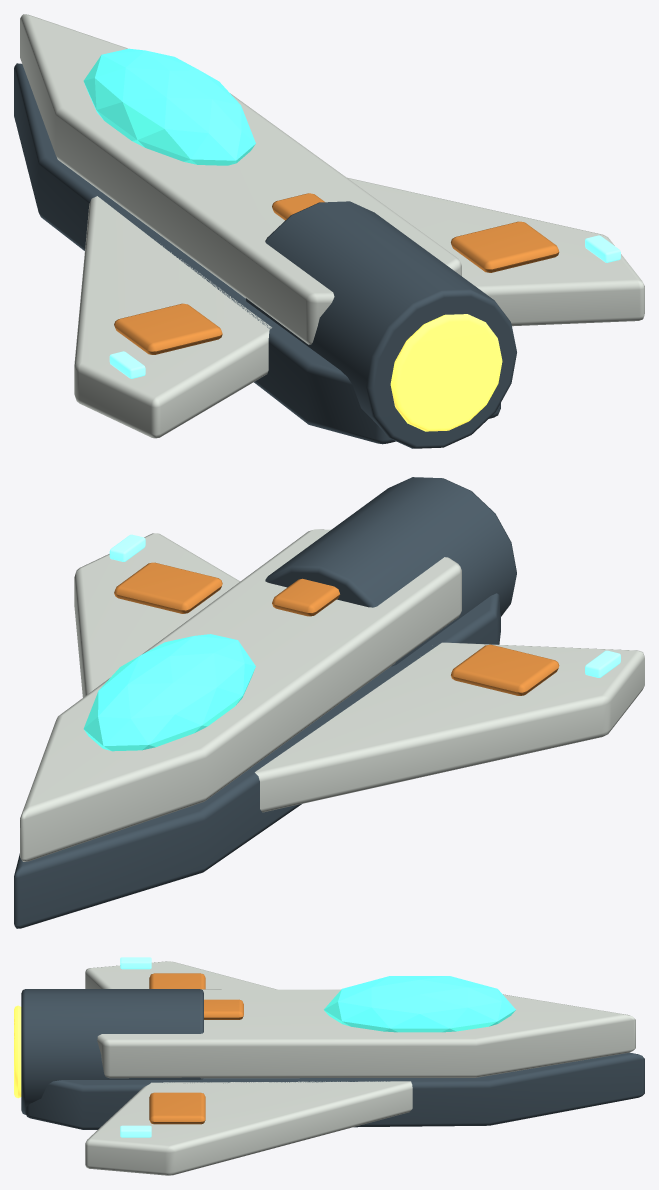
Rendered from kestrel.glb.
3 views of the same model, one above another, from view 1: azimuth 30°, elevation 25°; view 2: azimuth 150°, elevation 25°; view 3: azimuth 270°, elevation 25° (orthographic). The views are drawn at different scales.
Visible parts, largest first — view 1: Ivory spear hull, Single engine housing, Swept wing, Swept wing.001, Spear lower chassis, Mint canopy, Single glowing nozzle, Orange wing marking.001, Orange wing marking, Dorsal orange stripe, Wingtip light, Wingtip light.001; view 2: Ivory spear hull, Swept wing, Spear lower chassis, Single engine housing, Mint canopy, Swept wing.001, Orange wing marking.001, Orange wing marking, Dorsal orange stripe, Wingtip light.001, Wingtip light; view 3: Ivory spear hull, Swept wing.001, Spear lower chassis, Single engine housing, Mint canopy, Swept wing, Orange wing marking.001, Orange wing marking, Dorsal orange stripe, Single glowing nozzle, Wingtip light.001, Wingtip light.
Part boxes in pixels (x1,y1,x2,y2): Ivory spear hull: (20, 14, 461, 344); Single engine housing: (246, 201, 516, 448); Swept wing: (74, 196, 271, 438); Swept wing.001: (347, 177, 644, 326); Spear lower chassis: (14, 63, 500, 444); Mint canopy: (83, 48, 255, 165); Single glowing nozzle: (390, 314, 502, 431); Orange wing marking.001: (451, 221, 559, 272); Orange wing marking: (114, 303, 222, 354); Dorsal orange stripe: (272, 193, 324, 220); Wingtip light: (109, 351, 145, 378); Wingtip light.001: (585, 235, 620, 262); Ivory spear hull: (20, 529, 461, 861); Swept wing: (255, 642, 644, 812); Spear lower chassis: (14, 593, 500, 928); Single engine housing: (265, 477, 516, 666); Mint canopy: (83, 634, 255, 751); Swept wing.001: (74, 533, 239, 697); Orange wing marking.001: (114, 562, 222, 613); Orange wing marking: (451, 644, 559, 695); Dorsal orange stripe: (272, 578, 339, 616); Wingtip light.001: (109, 534, 145, 561); Wingtip light: (585, 650, 620, 677); Ivory spear hull: (97, 989, 635, 1078); Swept wing.001: (85, 1081, 412, 1175); Spear lower chassis: (24, 1052, 644, 1129); Single engine housing: (21, 989, 203, 1114); Mint canopy: (324, 976, 515, 1032); Swept wing: (85, 961, 276, 989); Orange wing marking.001: (149, 1092, 205, 1124); Orange wing marking: (149, 973, 205, 989); Dorsal orange stripe: (204, 999, 243, 1019); Single glowing nozzle: (14, 1005, 21, 1098); Wingtip light.001: (120, 1125, 151, 1137); Wingtip light: (120, 957, 151, 969).
Size of the model in its own units: 2.69 by 0.86 by 3.8.
